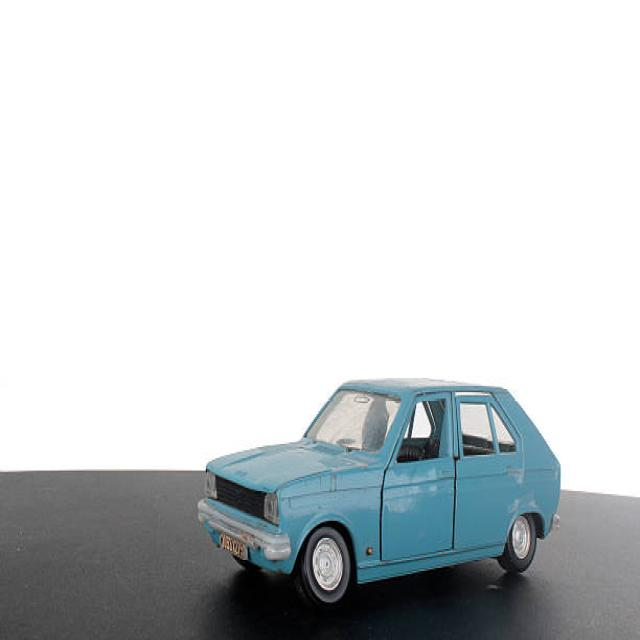Car: (198, 383, 559, 605)
